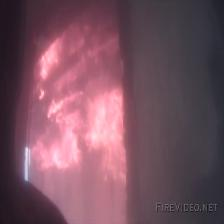fire: (26, 38, 144, 186)
